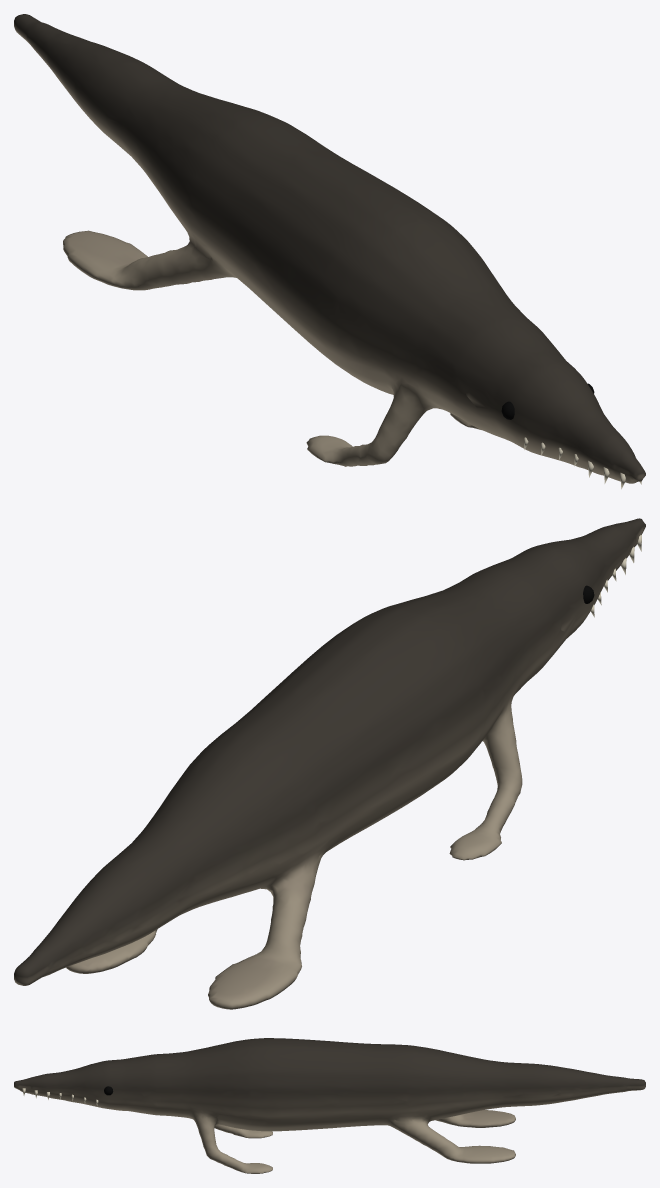
Rendered from RodhocetusKasranii.fbx.
3 renders of one model, top to bottom at view 1: azimuth 30°, elevation 25°; view 2: azimuth 150°, elevation 25°; view 3: azimuth 270°, elevation 25°, orthographic. The views are drawn at different scales.
Parts seen in each view (by area): view 1: RodhocetusKasranii; view 2: RodhocetusKasranii; view 3: RodhocetusKasranii.
Part boxes in pixels (bbox=[...]): RodhocetusKasranii: bbox=[14, 14, 645, 489]; RodhocetusKasranii: bbox=[14, 518, 645, 1009]; RodhocetusKasranii: bbox=[14, 1038, 645, 1173].
Bounding box in the file's own units: 0.3787 × 0.389 × 1.99.
